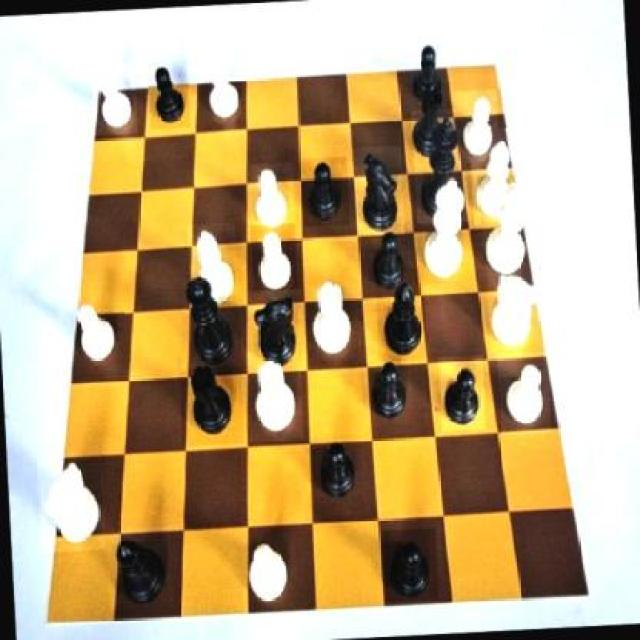bishop: (106, 528, 174, 610), (376, 268, 430, 360)
black-bishop: (411, 108, 468, 224)
black-king: (248, 290, 307, 376), (352, 146, 406, 239)
black-knight: (383, 528, 439, 602), (314, 434, 364, 513), (404, 34, 456, 108), (364, 352, 414, 426), (439, 356, 486, 432), (302, 157, 351, 227), (364, 223, 410, 296), (148, 60, 192, 130)
black-pawn: (177, 273, 241, 372)
black-queen: (178, 354, 244, 447), (404, 83, 456, 166)
black-rook: (470, 128, 522, 225), (188, 223, 240, 309)
white-bishop: (414, 174, 480, 286)
white-king: (37, 457, 107, 554), (486, 262, 546, 352)
white-knight: (240, 534, 300, 611), (497, 351, 551, 435), (68, 297, 128, 372), (252, 224, 300, 300), (248, 163, 298, 234), (92, 63, 140, 136), (454, 90, 500, 162), (202, 57, 248, 123)
white-pawn: (478, 174, 542, 281)
white-queen: (244, 350, 304, 442), (305, 274, 360, 368)
